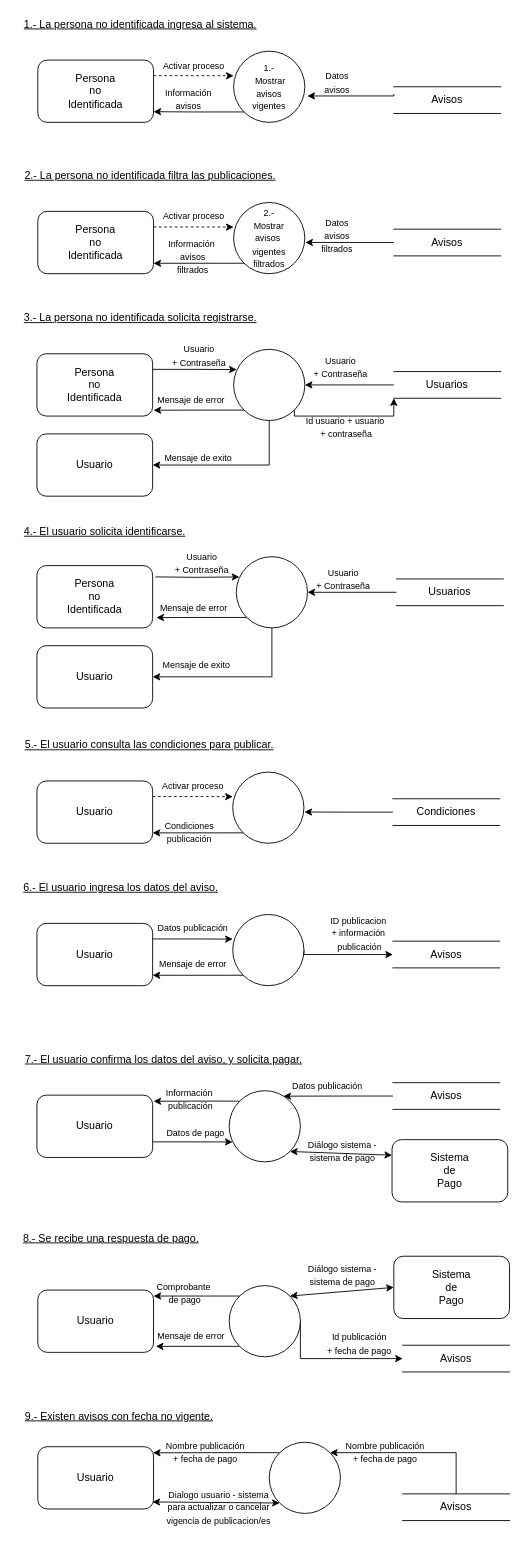
Image size: 525x1544. Some labels were removed from this diagram. The shapes that lost their labels are listed below. From the top down, each one's centre as x and y in pixels, then its label:
[269,384]: 3.- Registrar usuario
[271,592]: 4.- Identificar usuario
[268,807]: 5.- Consultar Condiciones publicación
[268,950]: 6.- Cargar datos de publicación
[264,1126]: 7.- Confirmar datos de publicación
[264,1321]: 8.- Recibir respuesta de pago
[304,1477]: 9.- Gestionar publicaciones vencidas
